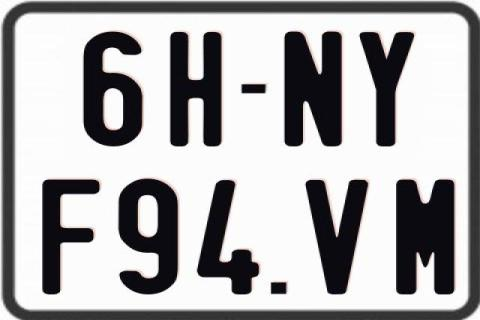0: (197, 179, 262, 299), (118, 176, 183, 295), (80, 29, 140, 147)
F: (39, 178, 97, 296)
H: (167, 31, 219, 145)
M: (394, 178, 454, 294)
N: (284, 31, 344, 146)
V: (304, 178, 372, 296)
Y: (359, 32, 413, 149)
